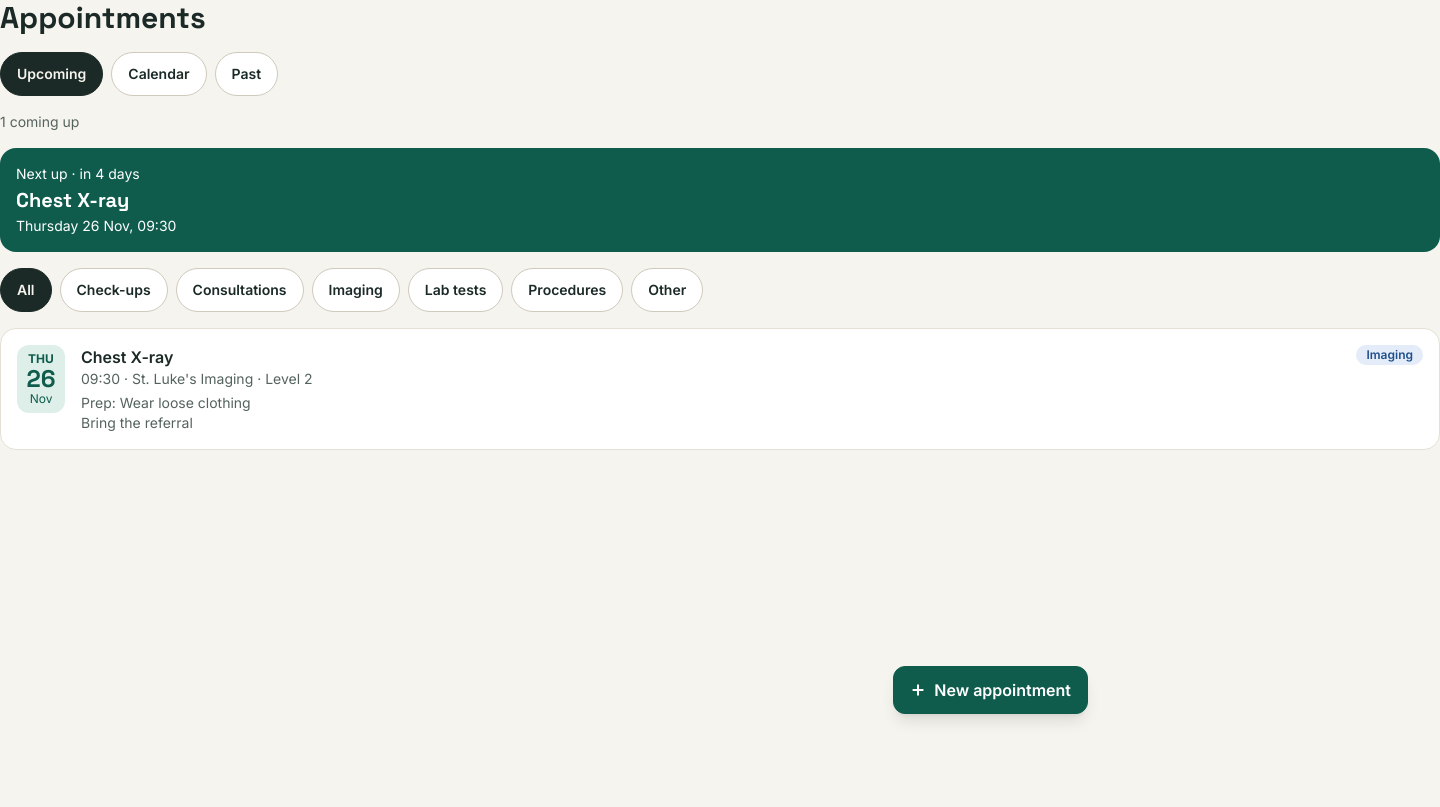
Test case: calendar › switches to the calendar from the view buttons
Click the button "Calendar" at (159, 74), box [111,52,206,96]
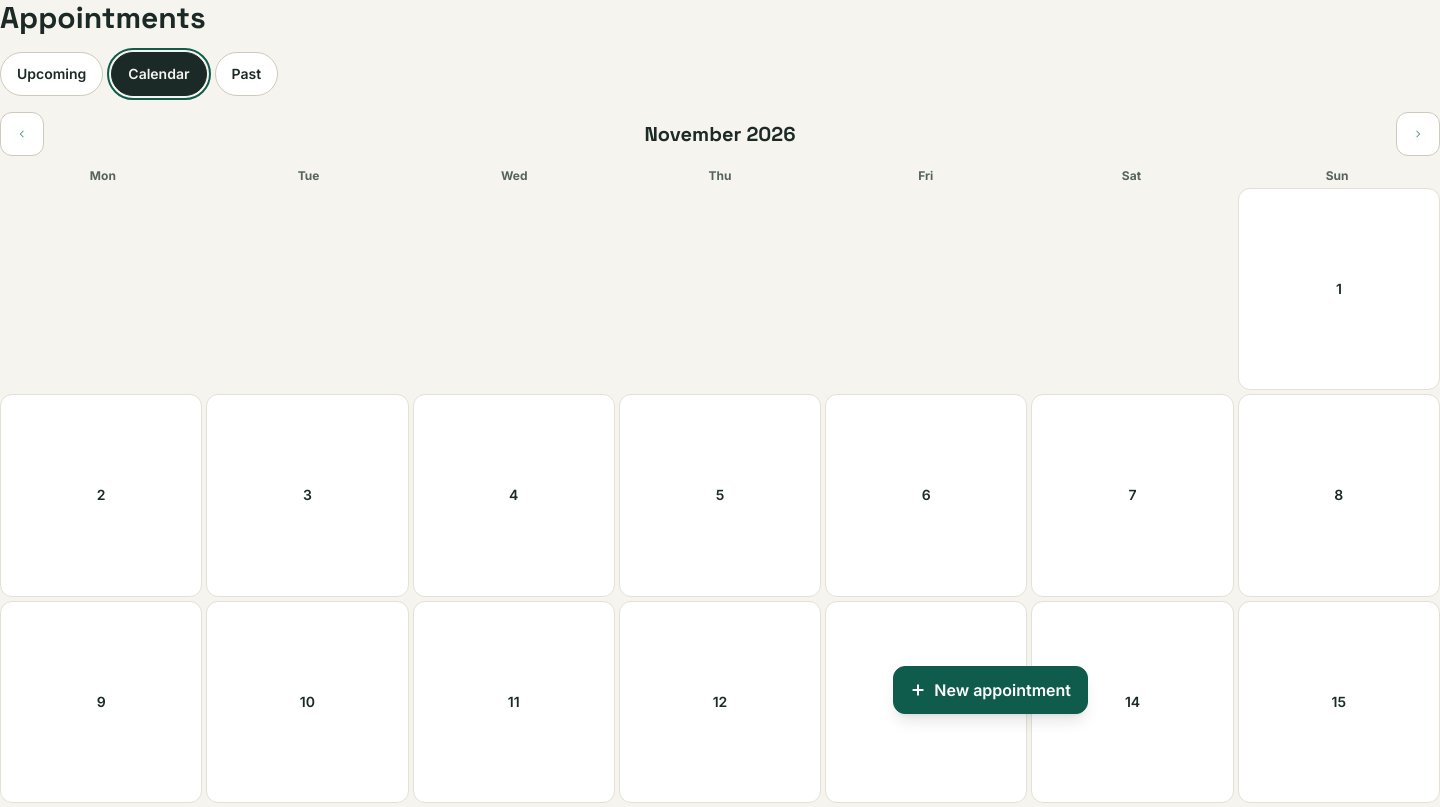
Result: the heading "November 2026" is shown at [644,120,796,148]
